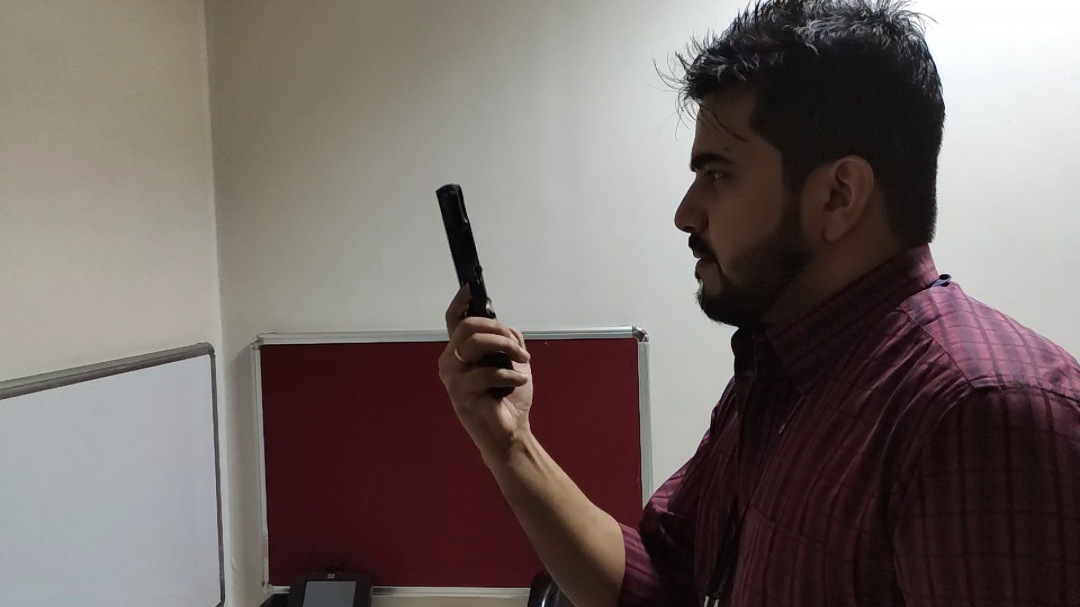gun: (434, 182, 521, 402)
